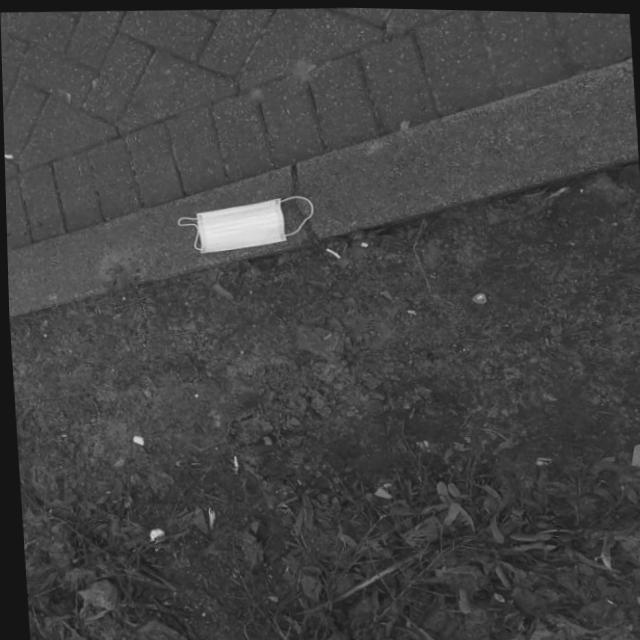Mask: (172, 189, 319, 253)
